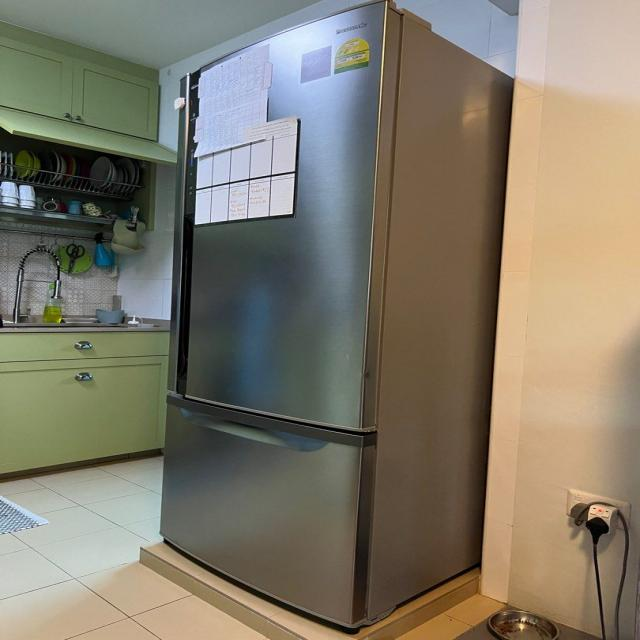refrigerator: (157, 0, 406, 626)
